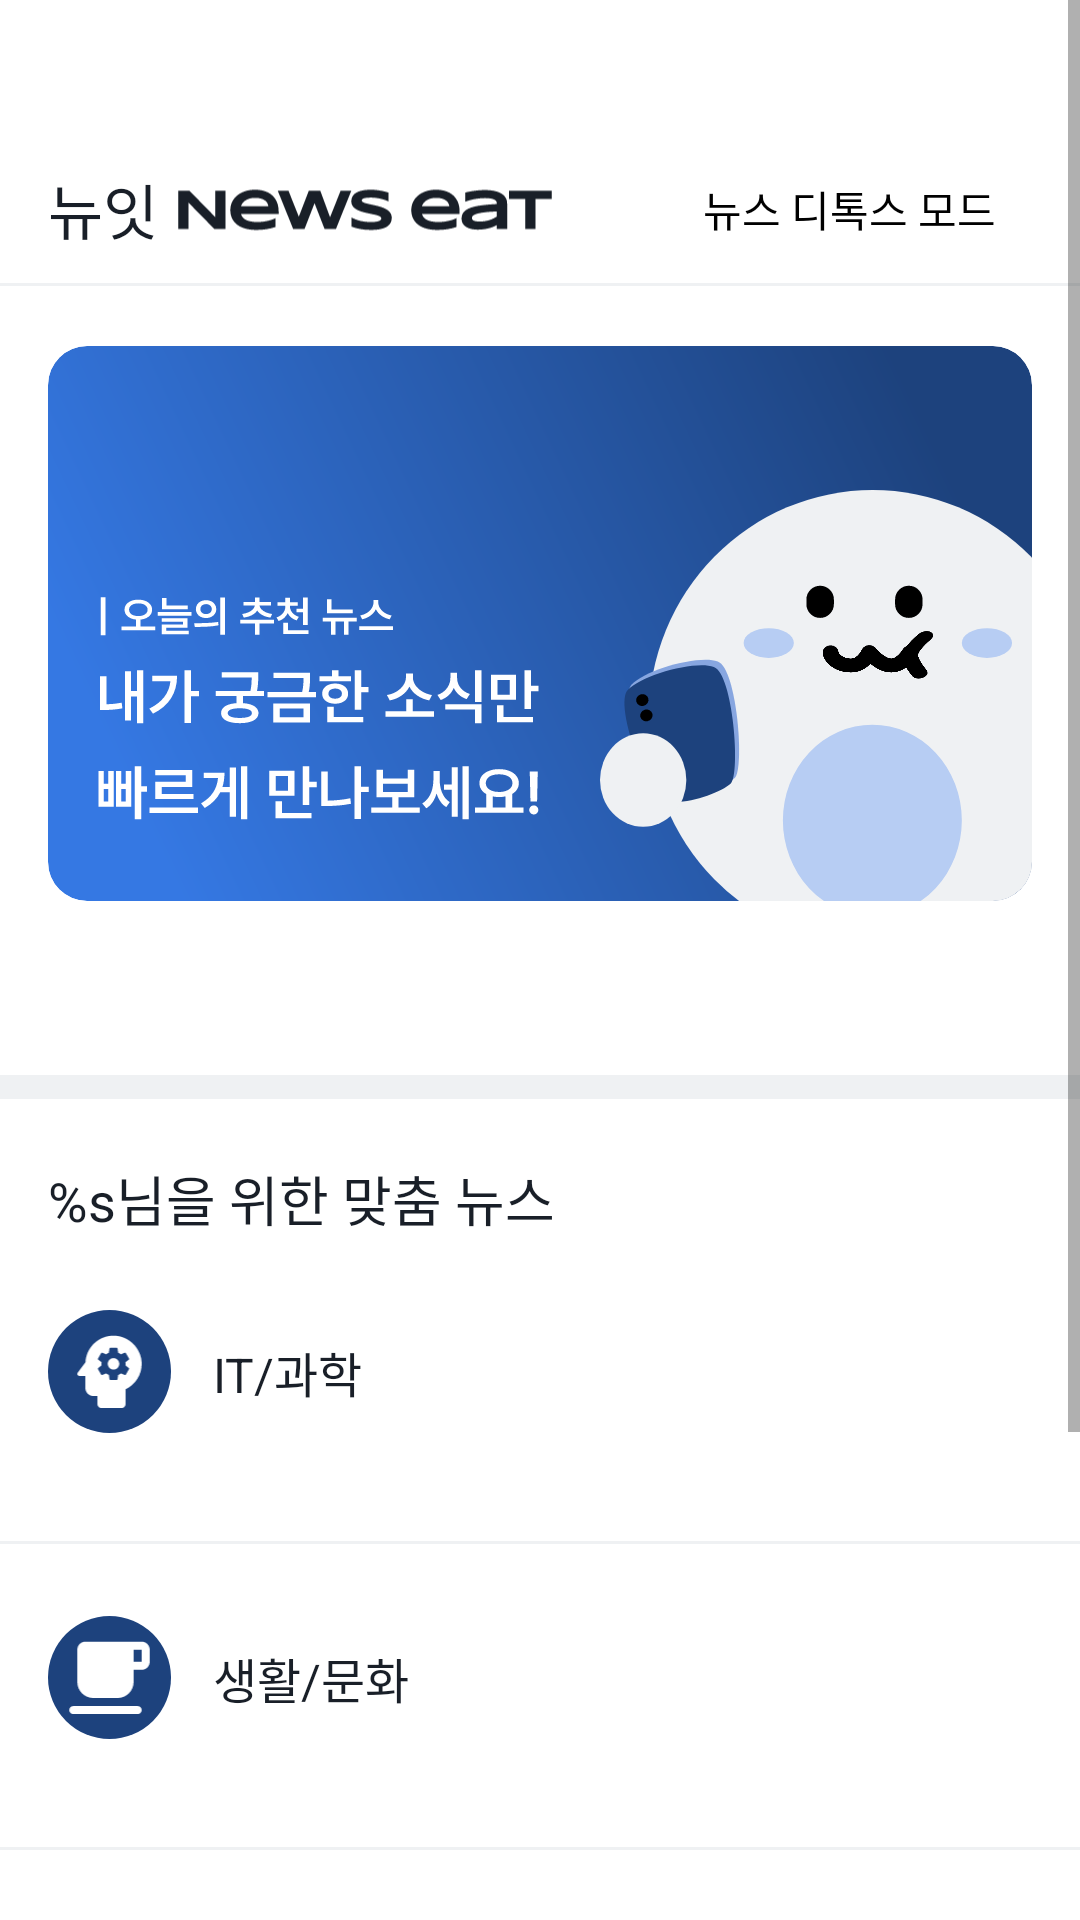

Where to tap for icons on this 1080 × 1920 app screen, as (x,y):
category science: (109,1371)
